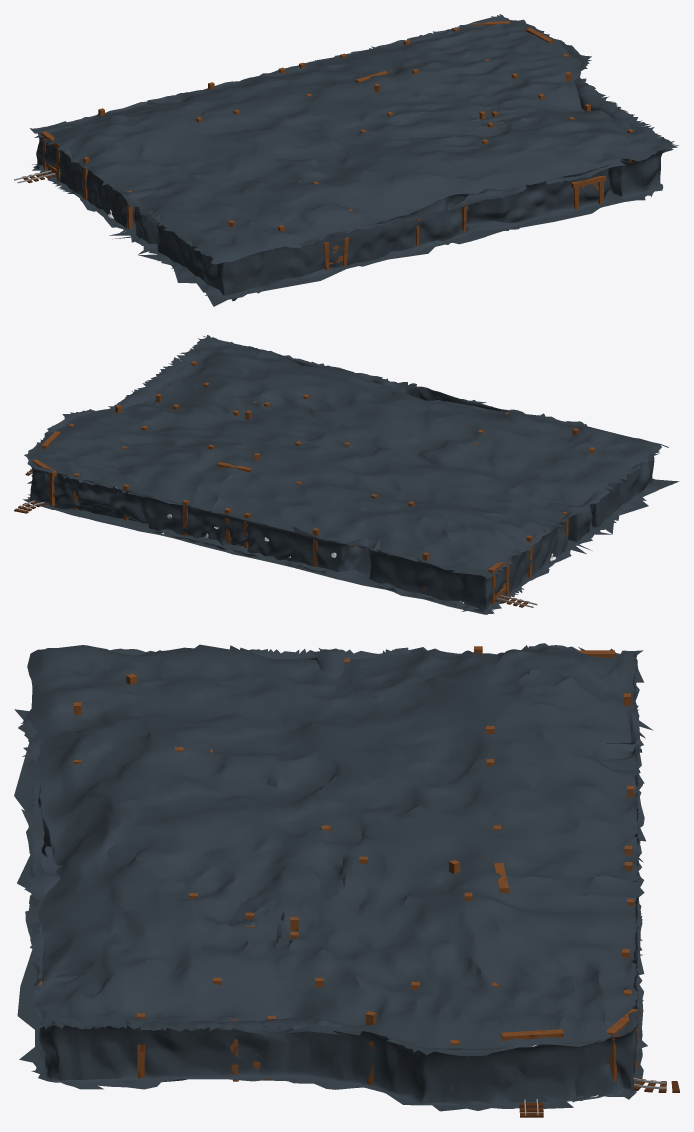
File: Pechera2.fbx
3 views of the same model, one above another, from view 1: azimuth 30°, elevation 25°; view 2: azimuth 150°, elevation 25°; view 3: azimuth 270°, elevation 25° (orthographic). The views are drawn at different scales.
Visible parts, largest first — view 1: Plane.003, Cube.096; view 2: Plane.003; view 3: Plane.003.
Boxes of the visible parts, x1,y1,x2,y2 form: Plane.003: (30, 14, 678, 306); Cube.096: (571, 175, 606, 209); Plane.003: (23, 335, 679, 614); Plane.003: (14, 643, 653, 1111).
Bounding box in the file's own units: 29759 × 3769 × 19515.
